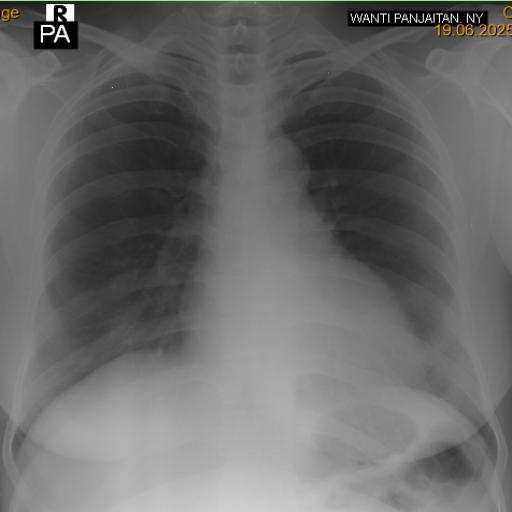kardiomegali: (5, 26, 505, 469)
